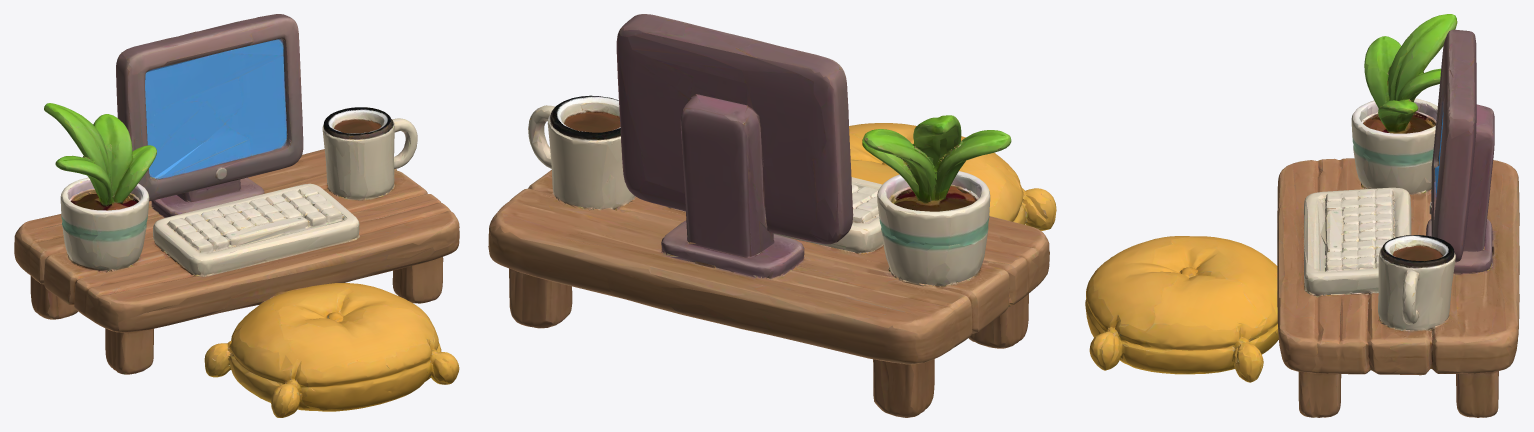
File: low-monitor-station-meshy6-web-v1.glb
3 renders of one model, left to right at view 1: azimuth 30°, elevation 25°; view 2: azimuth 150°, elevation 25°; view 3: azimuth 270°, elevation 25°, orthographic. The views are drawn at different scales.
Size of the model in its own units: 1.9 by 1.27 by 1.81.
1 material, 1 textured.
